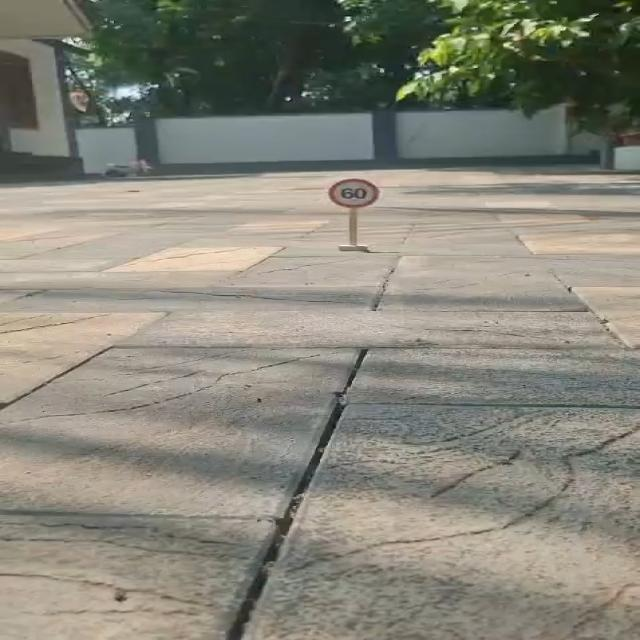Speed60: (325, 178, 381, 210)
